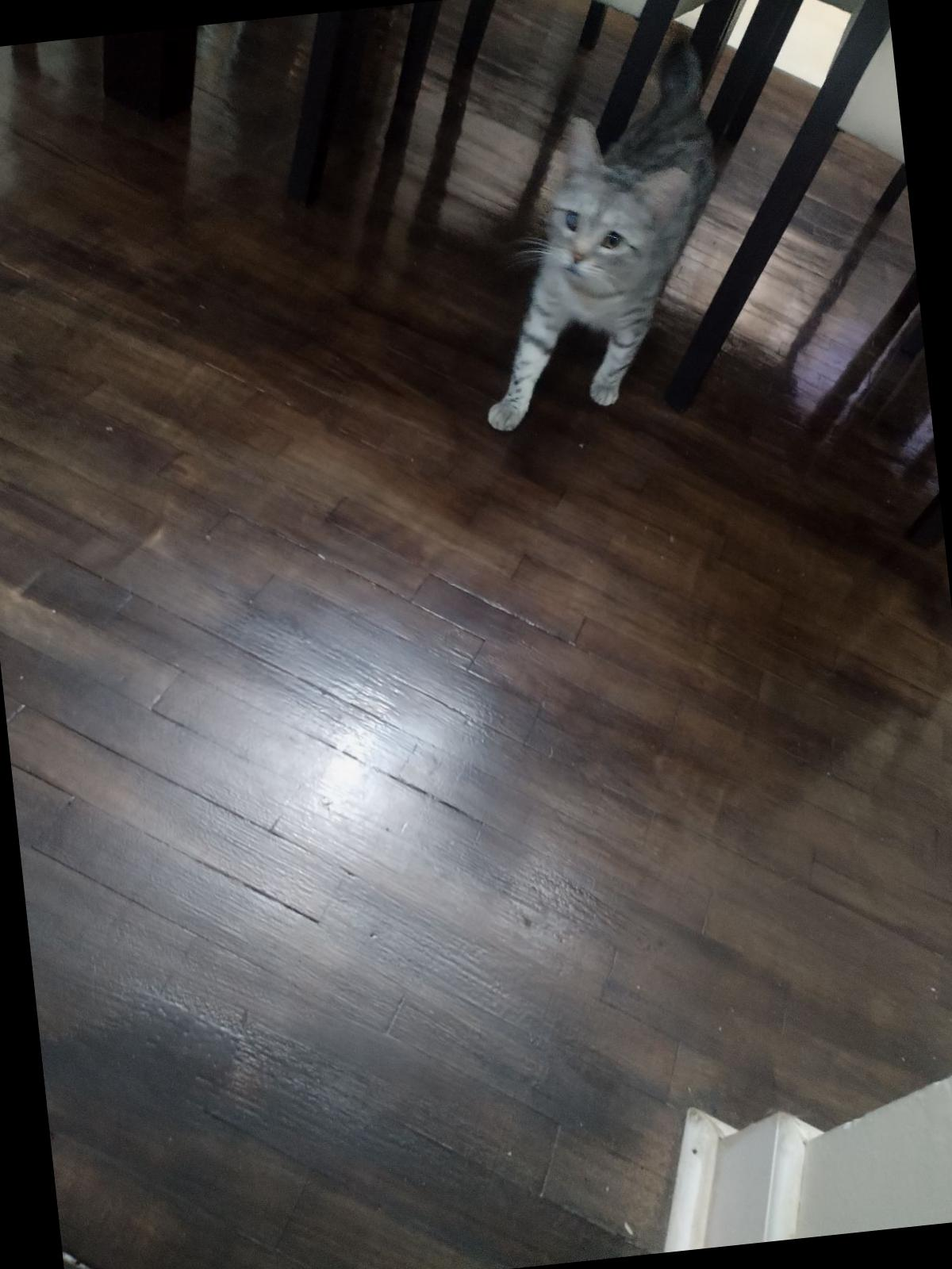macka: (443, 35, 747, 435)
